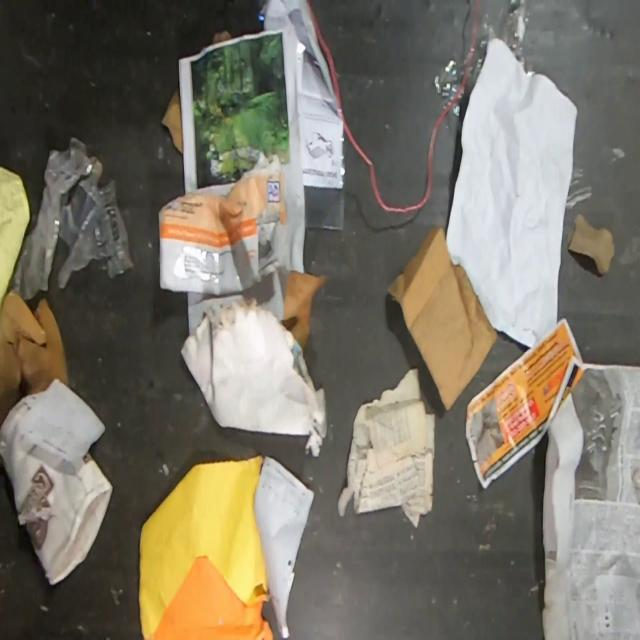cardboard: (180, 297, 328, 456), (0, 391, 112, 584), (386, 223, 496, 410), (158, 169, 294, 294), (0, 290, 67, 413), (0, 165, 30, 318), (282, 268, 330, 351), (567, 210, 616, 275), (160, 89, 183, 154)
rigid_plastic: (12, 135, 133, 301)
soft_plastic: (260, 0, 344, 230), (434, 0, 530, 116)
